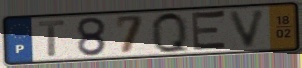7: (113, 14, 148, 56)
8: (75, 15, 109, 57)
E: (191, 9, 230, 52)
Q: (149, 10, 192, 55)
T: (36, 19, 68, 58)
V: (227, 7, 270, 50)
